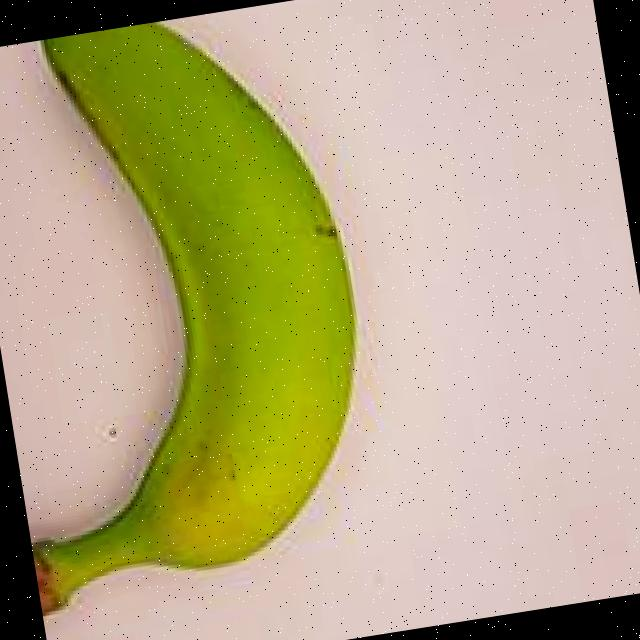Unripe: (0, 0, 421, 629)
